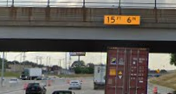1: (105, 15, 111, 24)
5: (109, 15, 116, 24)
6: (125, 16, 132, 24)
overheadsign: (102, 14, 142, 26)
